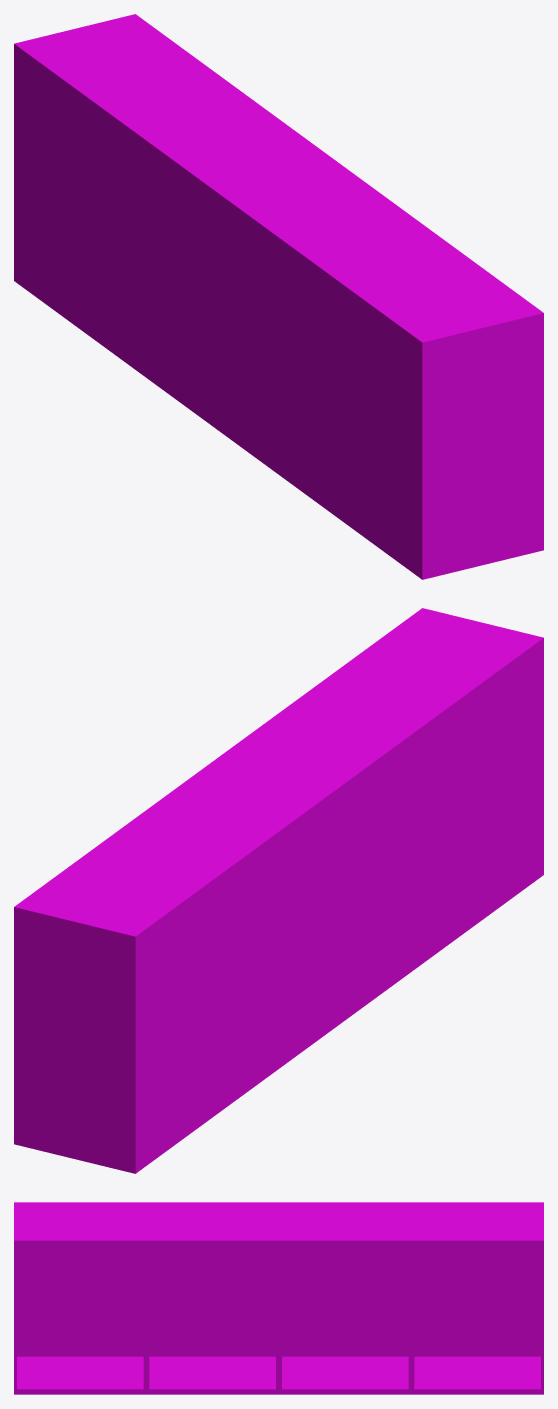
File: SM_TopCupboardCollider.fbx
The picture shows the model from 3 angles, top to bottom: view 1: azimuth 30°, elevation 25°; view 2: azimuth 150°, elevation 25°; view 3: azimuth 270°, elevation 25°; orthographic projection. The views are drawn at different scales.
Parts seen in each view (by area): view 1: TopCupboardCollision; view 2: TopCupboardCollision; view 3: TopCupboardCollision.
Part boxes in pixels (x1=…): TopCupboardCollision: x1=14, y1=14, x2=543, y2=579; TopCupboardCollision: x1=14, y1=608, x2=543, y2=1173; TopCupboardCollision: x1=14, y1=1202, x2=543, y2=1394.
Size of the model in its own units: 47.38 by 88.4 by 276.
